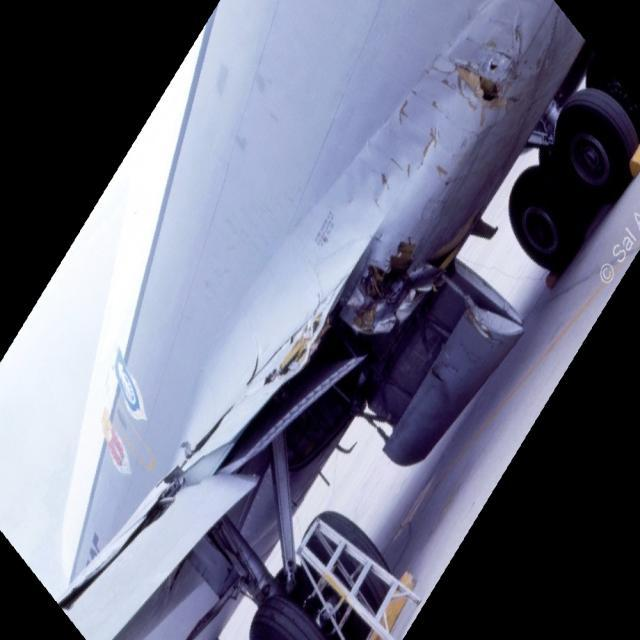crack: (454, 60, 509, 116)
dent: (345, 82, 462, 220)
